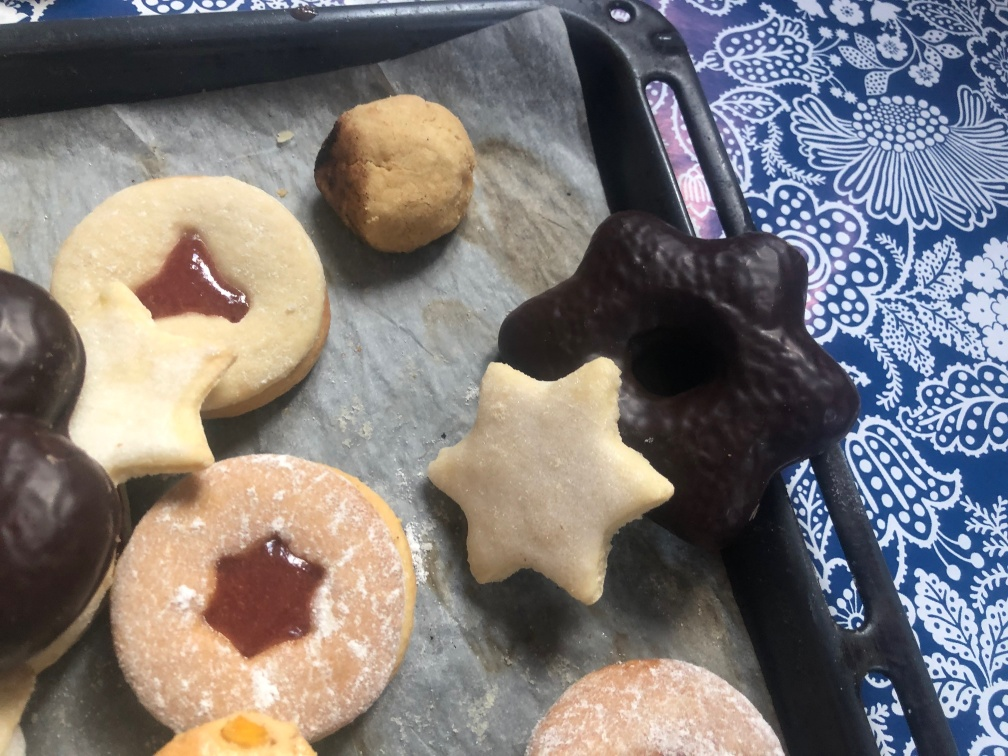christmas shortbread with jam: (109, 449, 414, 740), (53, 173, 326, 414)
snowball: (306, 87, 481, 258)
star: (498, 212, 863, 535), (426, 355, 669, 610), (51, 274, 241, 483)
